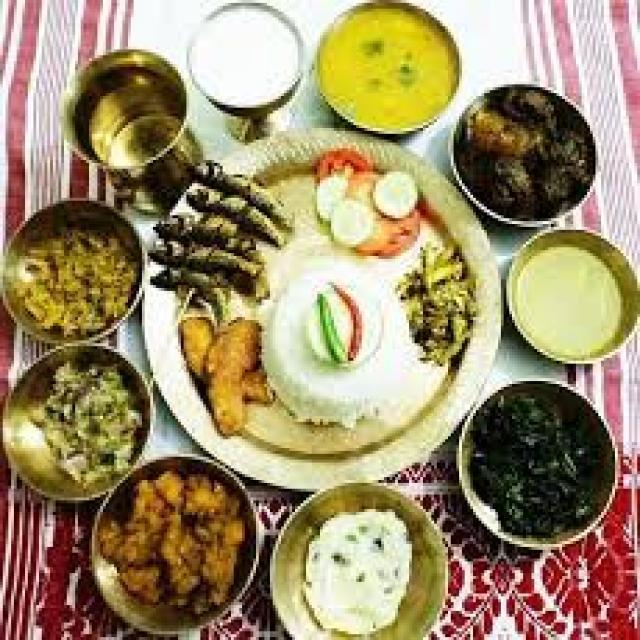curd: (271, 489, 446, 639), (182, 5, 313, 118)
dal: (313, 13, 460, 131)
rice: (269, 200, 509, 457)
sweet: (272, 498, 441, 631)
veg-fry: (6, 342, 154, 502)
